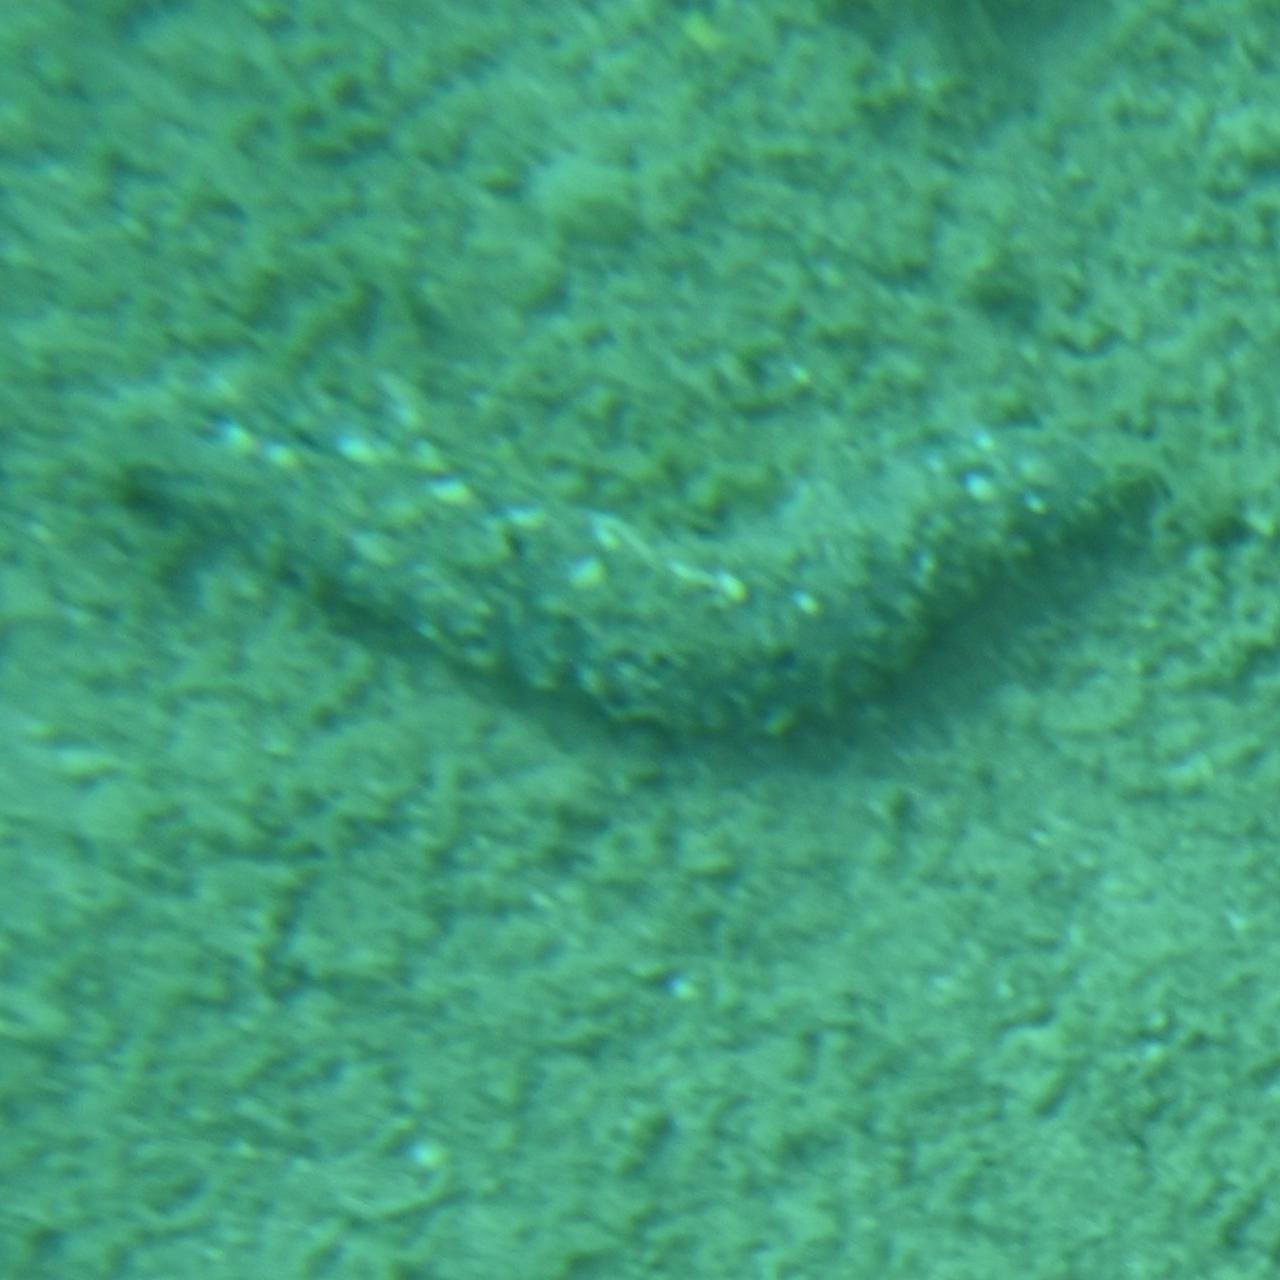Holothuria tubulosa: (95, 395, 1185, 756)
